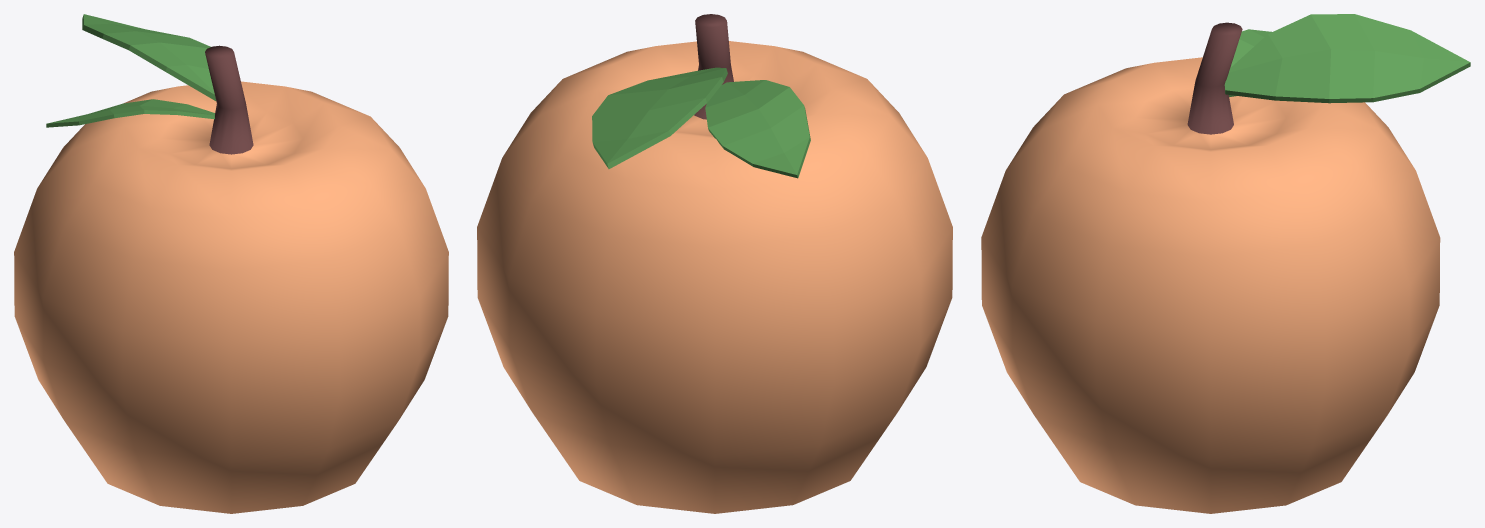
File: Albicocca.fbx
3 renders of one model, left to right at view 1: azimuth 30°, elevation 25°; view 2: azimuth 150°, elevation 25°; view 3: azimuth 270°, elevation 25°, orthographic. The views are drawn at different scales.
Visible parts, largest first — view 1: Albicocca; view 2: Albicocca; view 3: Albicocca.
Boxes of the visible parts, <box> form: Albicocca: <box>14,14,448,513</box>; Albicocca: <box>477,14,952,513</box>; Albicocca: <box>981,14,1470,513</box>.
Size of the model in its own units: 9.3 by 10.3 by 9.92.
